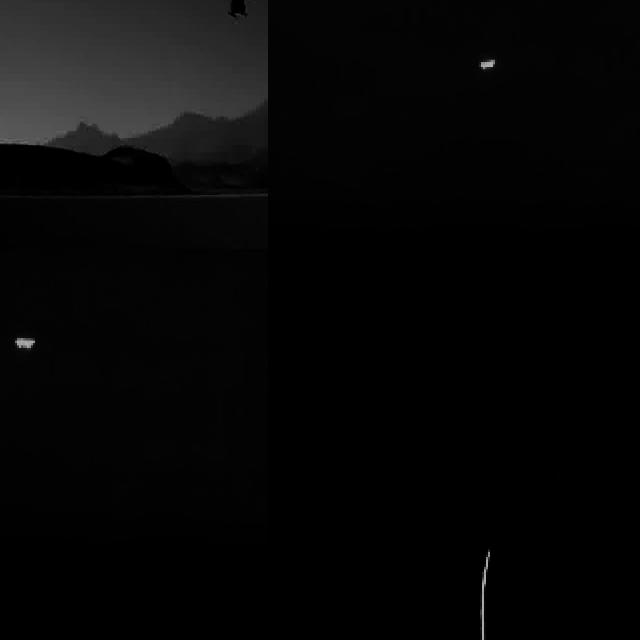0: (544, 466, 568, 496)
1: (0, 325, 57, 368), (468, 52, 504, 84)
drone: (208, 0, 264, 22)
